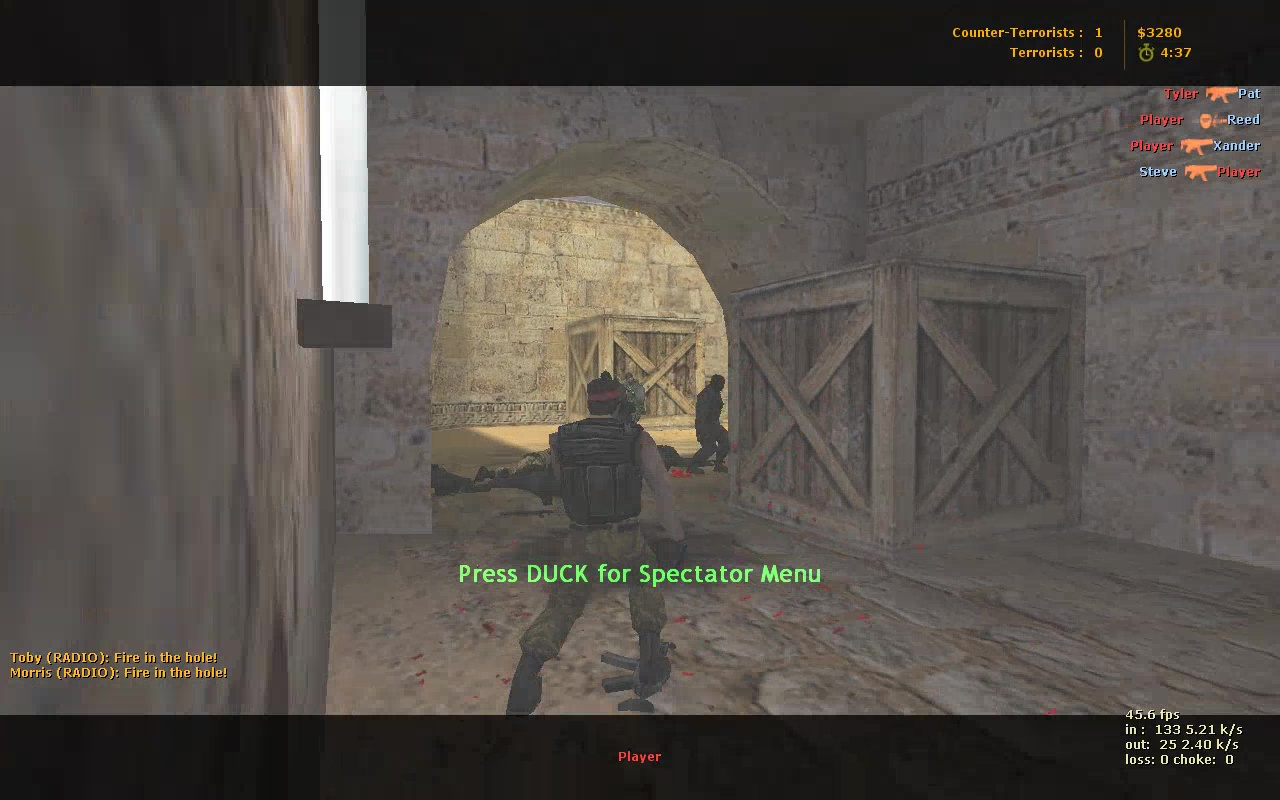ct: (692, 372, 733, 478)
dead: (435, 459, 549, 503)
terr1: (517, 378, 696, 693)
